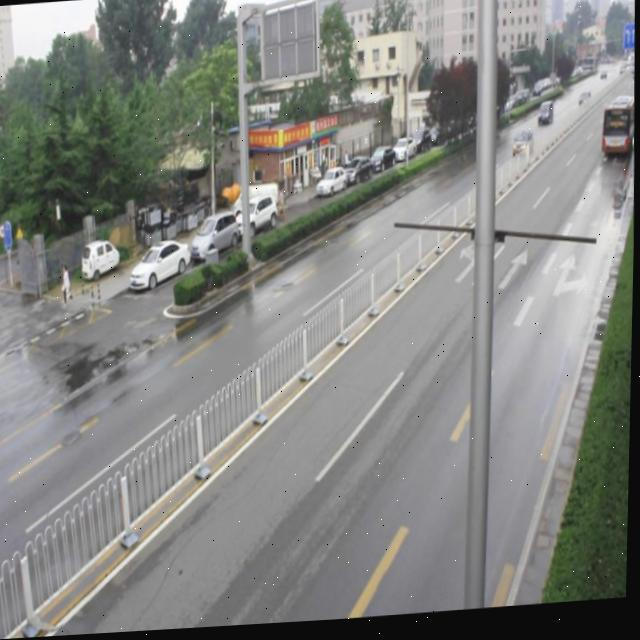van: (599, 100, 636, 163)
